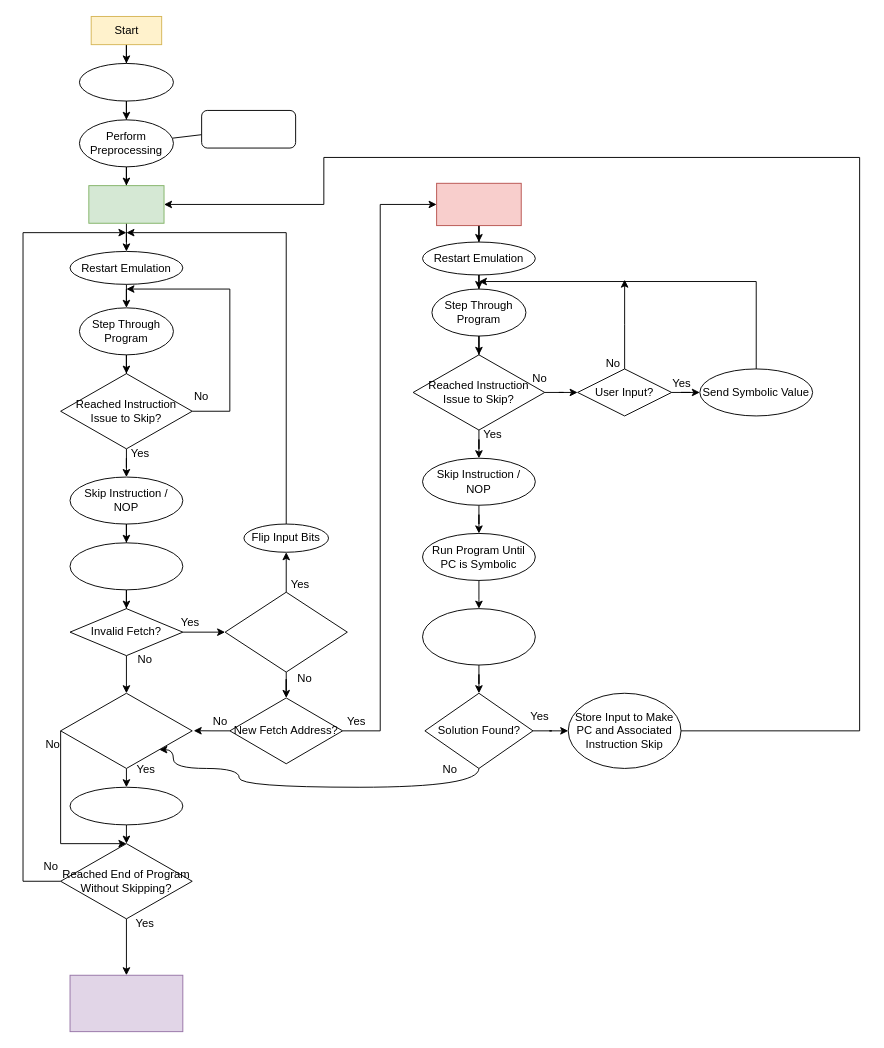
The diagram is 884 pixels wide and 1048 high, and some of its shapes have lost their labels. Each missing label, with the box of its shape:
Achieved Security Fault?: (60, 692, 192, 768)
Angr SMT Solver: (436, 182, 521, 226)
End: (69, 974, 183, 1032)
First Time Glitching This Instruction Issue?: (224, 591, 347, 672)
Instructions of Interest: (201, 110, 296, 148)
Load Binary: (78, 63, 173, 101)
Run Program to Completion: (69, 542, 183, 590)
Solve For PC to Make Desired Value: (422, 608, 535, 665)
Store Skipped Instruction Issue: (69, 786, 183, 825)
Unicorn Emulation: (88, 185, 164, 223)
